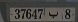3: (14, 9, 20, 19)
4: (32, 8, 37, 19)
6: (26, 9, 33, 19)
7: (37, 8, 44, 19), (20, 8, 26, 19)
8: (65, 8, 70, 19)
b: (48, 10, 59, 19)
